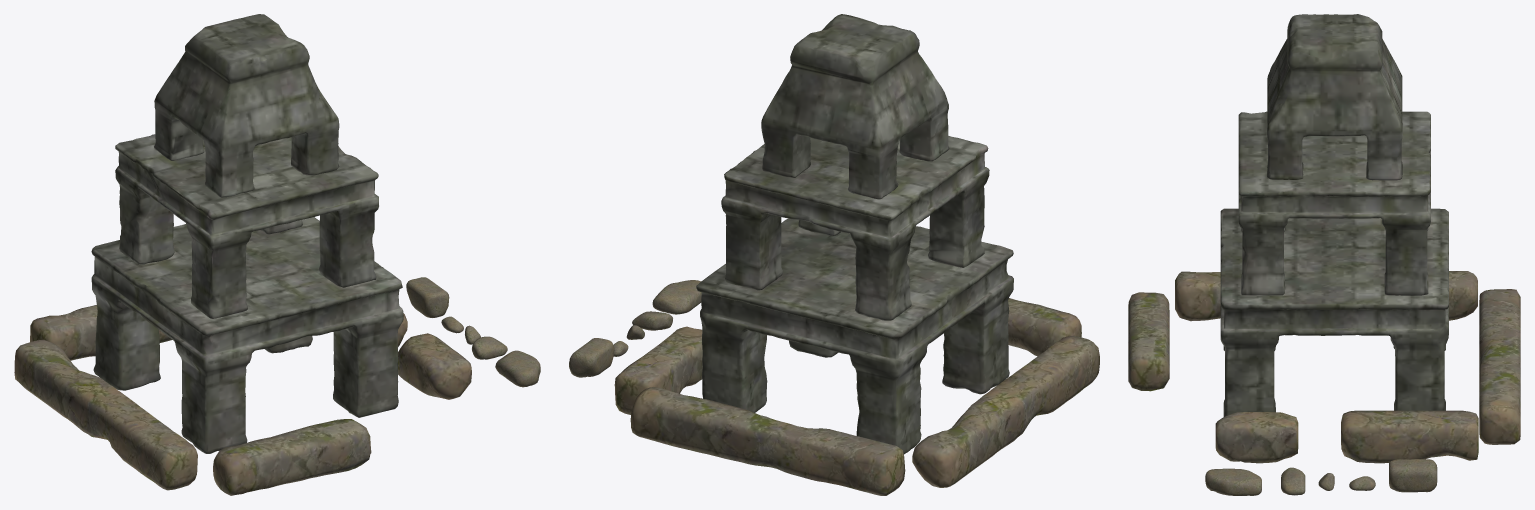
The model's file is old_ruined_temple.glb.
3 renders of one model, left to right at view 1: azimuth 30°, elevation 25°; view 2: azimuth 150°, elevation 25°; view 3: azimuth 270°, elevation 25°, orthographic. The views are drawn at different scales.
Parts seen in each view (by area): view 1: defaultMaterial (×3); view 2: defaultMaterial (×3); view 3: defaultMaterial (×3).
Boxes of the visible parts, x1,y1,x2,y2 form: defaultMaterial (×3): (14, 14, 540, 495); defaultMaterial (×3): (569, 14, 1099, 495); defaultMaterial (×3): (1128, 14, 1520, 495).
Size of the model in its own units: 2 by 1.7 by 1.71.
Materials: 3 (3 with a texture image).
